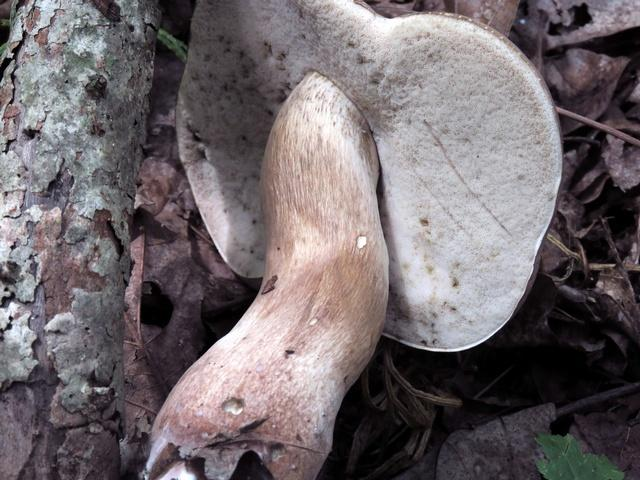poisonous_mushroom: (140, 13, 560, 478)
